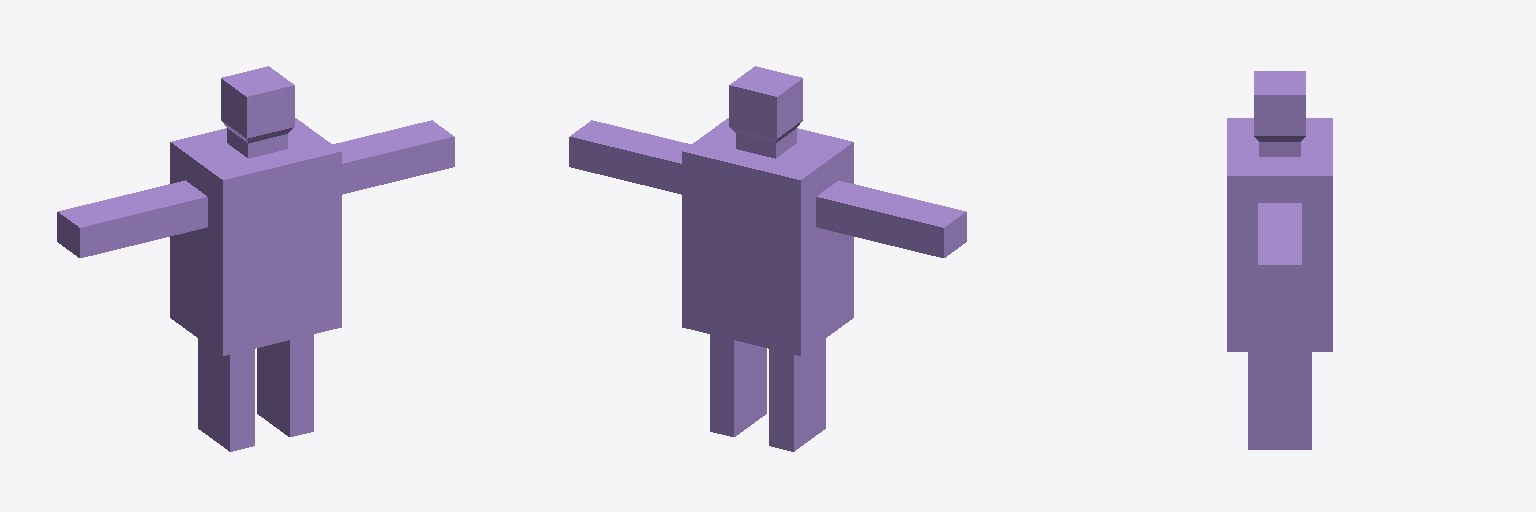
The model's file is aaa.obj.
3 renders of one model, left to right at view 1: azimuth 30°, elevation 25°; view 2: azimuth 150°, elevation 25°; view 3: azimuth 270°, elevation 25°, orthographic.
Parts seen in each view (by area): view 1: Box001; view 2: Box001; view 3: Box001.
Part boxes in pixels (x1,y1,x2,y2): Box001: (57, 66, 454, 451); Box001: (569, 66, 966, 451); Box001: (1227, 71, 1332, 449).
Size of the model in its own units: 74.51 by 66.14 by 18.11.